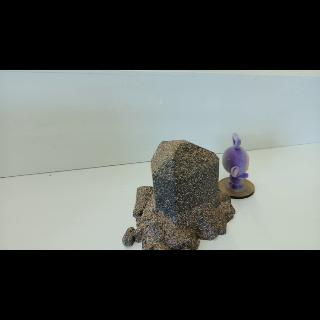teletubby: (222, 133, 248, 189)
